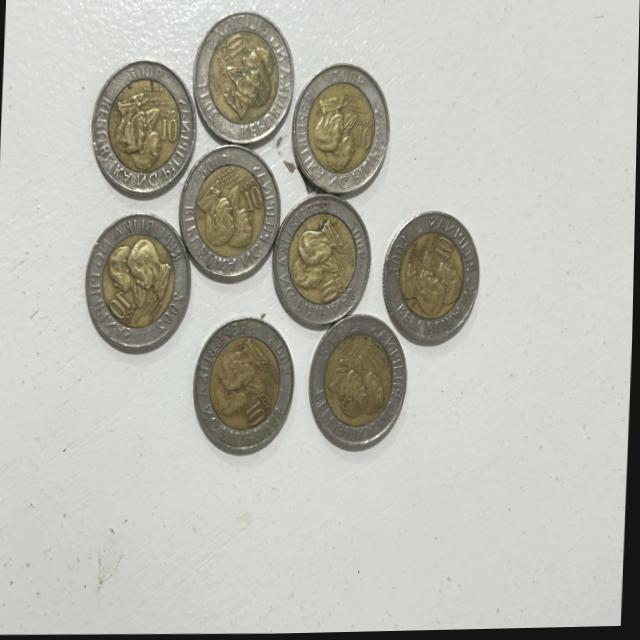10_Old_Front: (97, 278, 145, 330), (233, 385, 281, 435), (154, 94, 192, 148), (231, 162, 269, 214)
